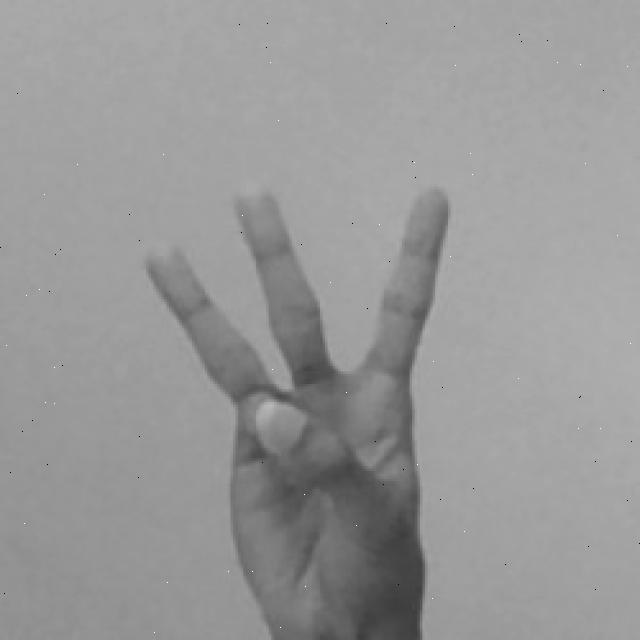W: (136, 176, 456, 640)
